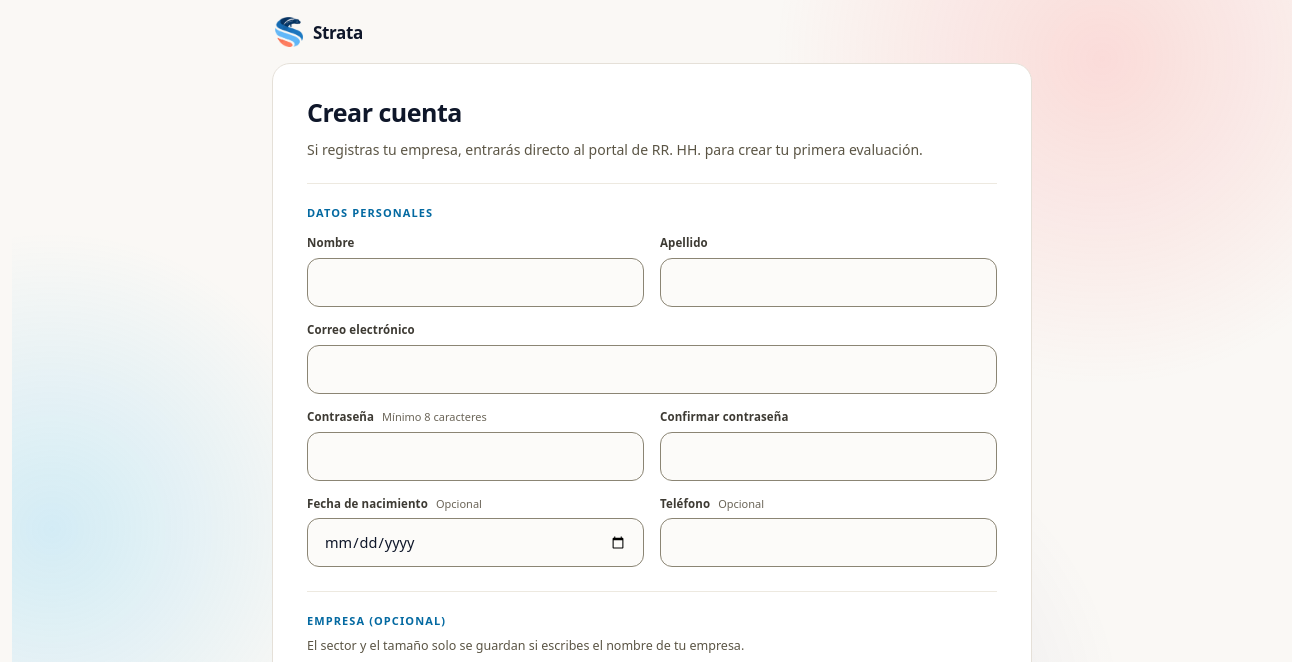
Test: Registro › un 422 de un dato que no está en el formulario va al aviso general
Type "Leo" into the field labelled "Nombre" at (476, 282), box x1=308 y1=259 x2=643 y2=306
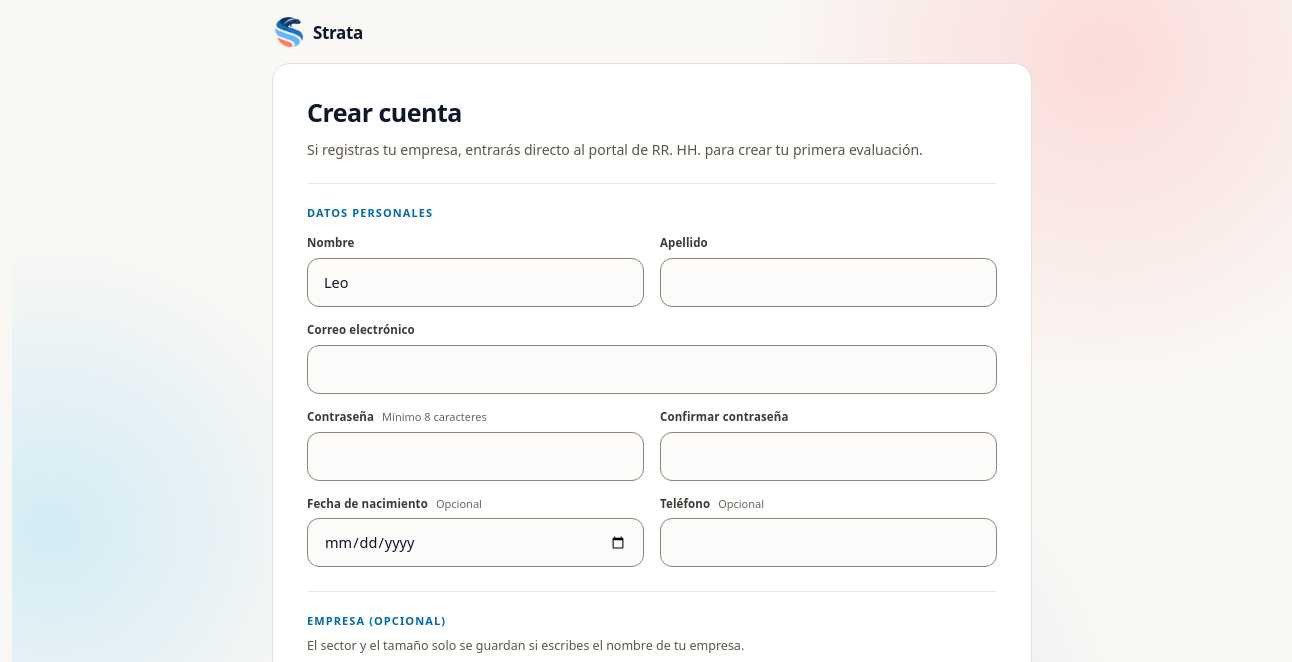
Type "Ríos" into the field labelled "Apellido" at (828, 282), box x1=661 y1=259 x2=996 y2=306
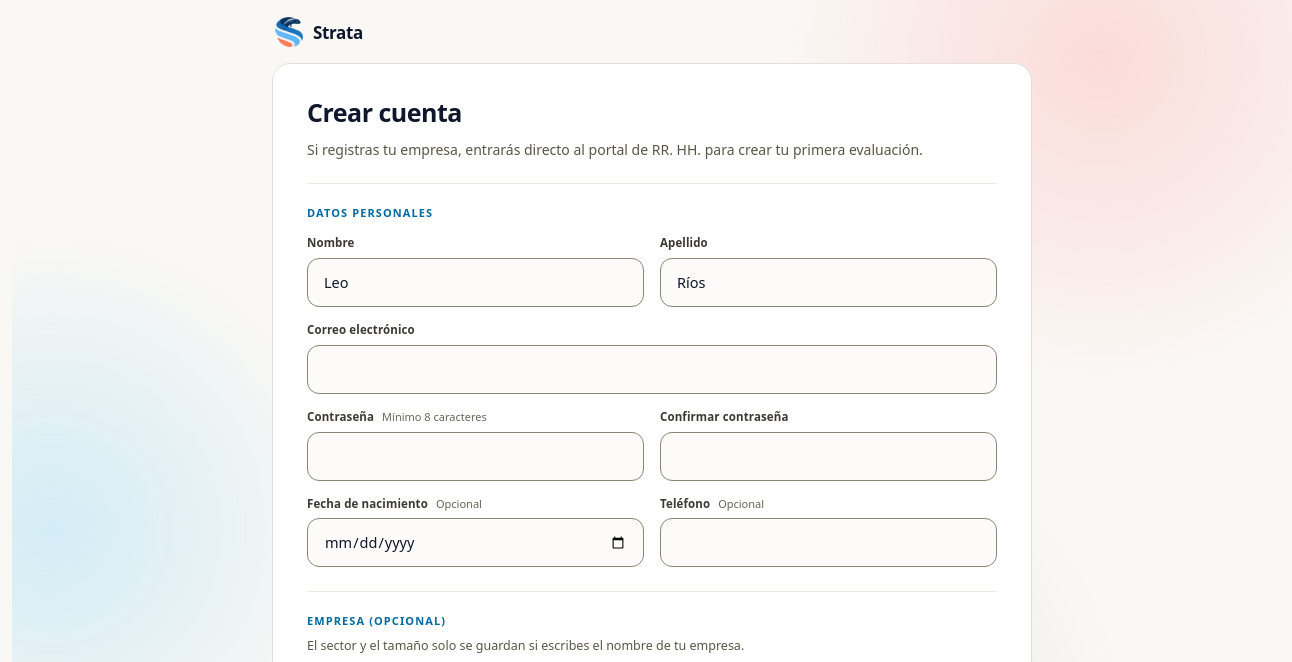
Type "leo@empresa.mx" into the field labelled "Correo electrónico" at (652, 369), box x1=308 y1=346 x2=996 y2=393
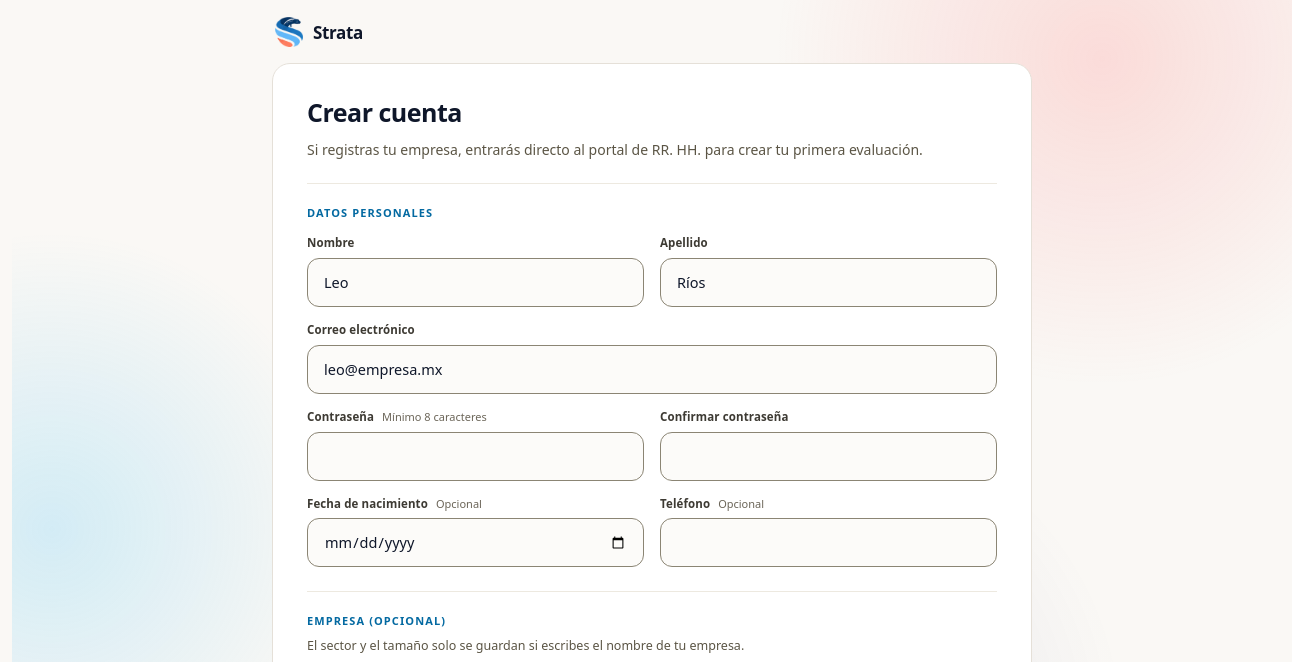
Type "Secreta123" into the password field labelled "Contraseña" at (476, 456), box x1=308 y1=433 x2=643 y2=480
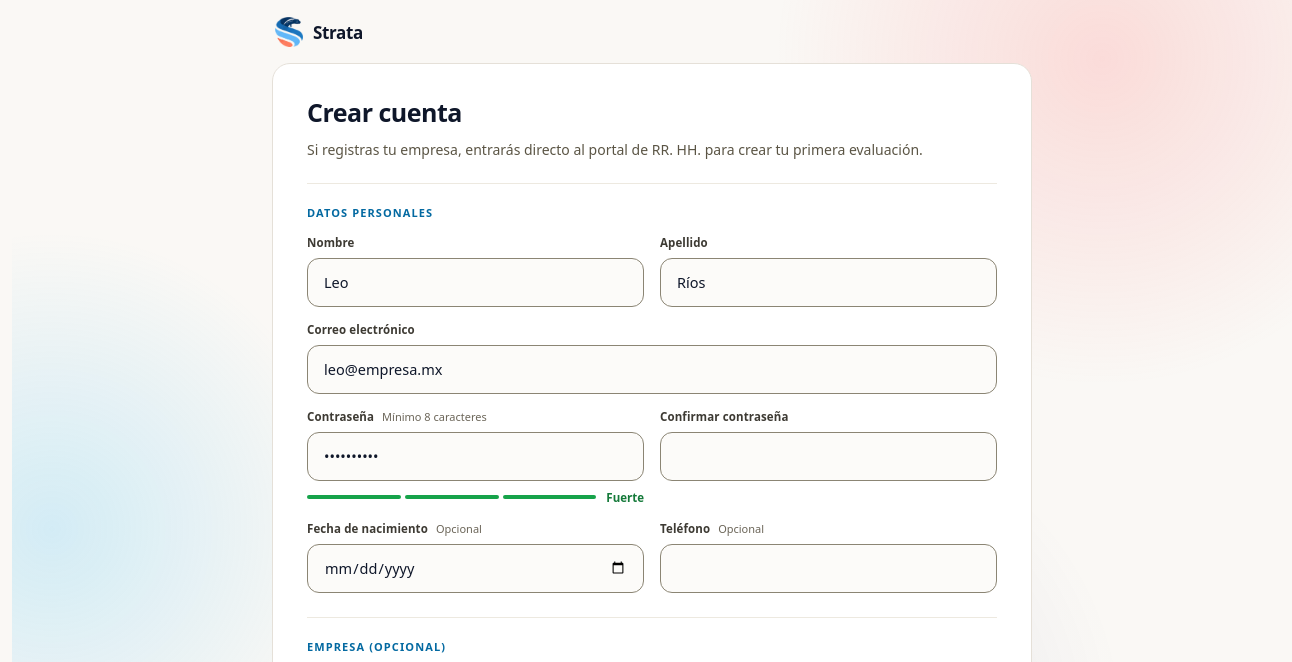
Type "Secreta123" into the password field labelled "Confirmar contraseña" at (828, 456), box x1=661 y1=433 x2=996 y2=480
(page scrolled)
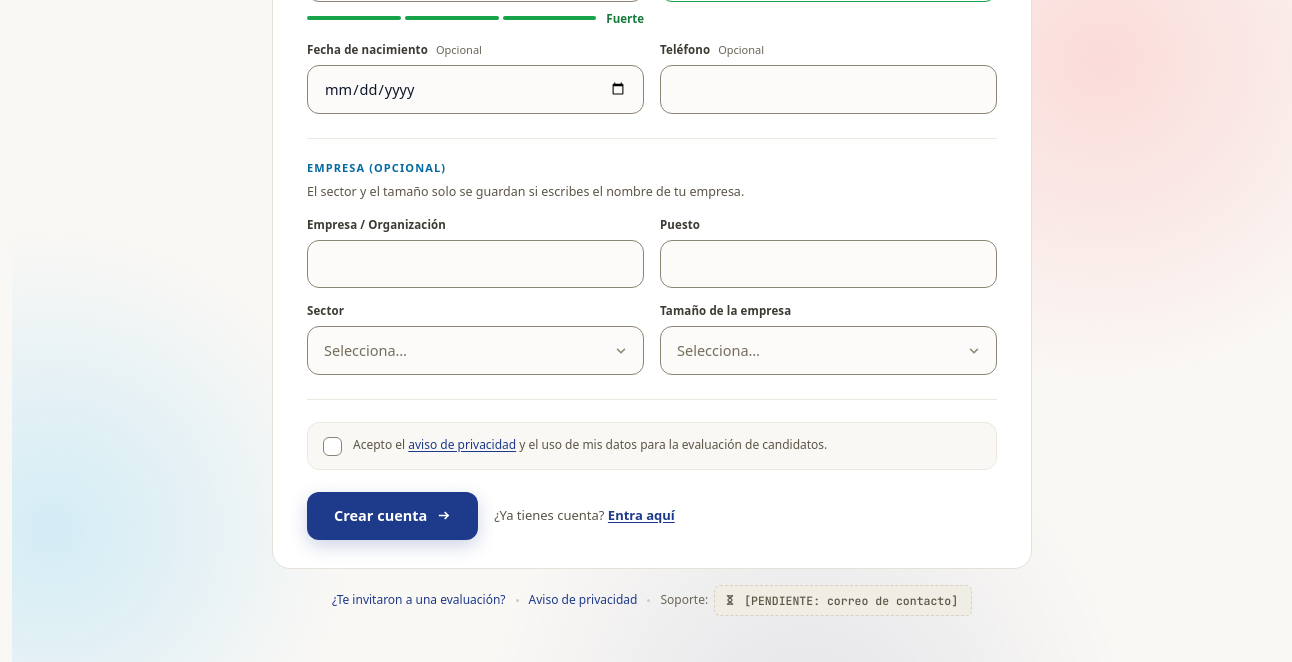
Click the button "Crear cuenta" at (393, 516), box x1=307 y1=492 x2=478 y2=540
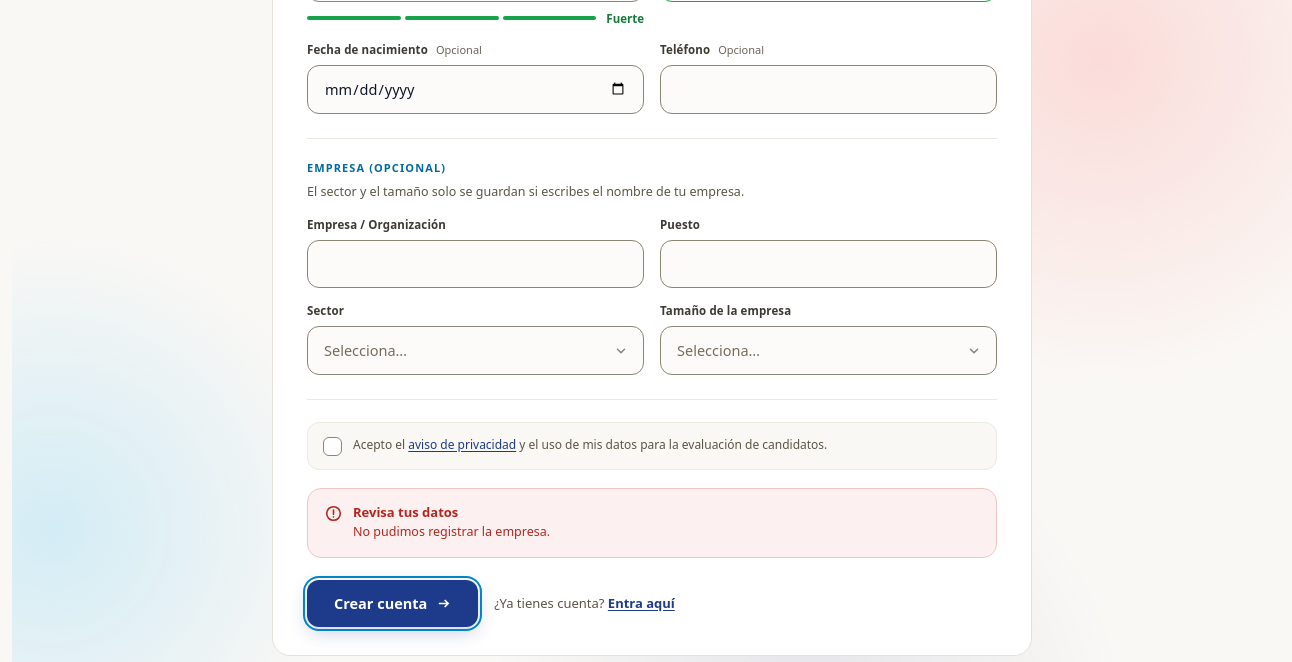
Check: the message "Revisa tus datos No pudimos registrar la empresa." is shown, box x1=307 y1=488 x2=997 y2=558
